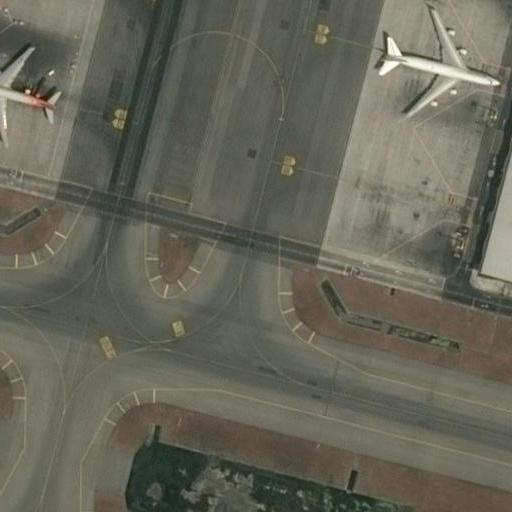Aircraft: (375, 1, 501, 115), (0, 33, 56, 143)
